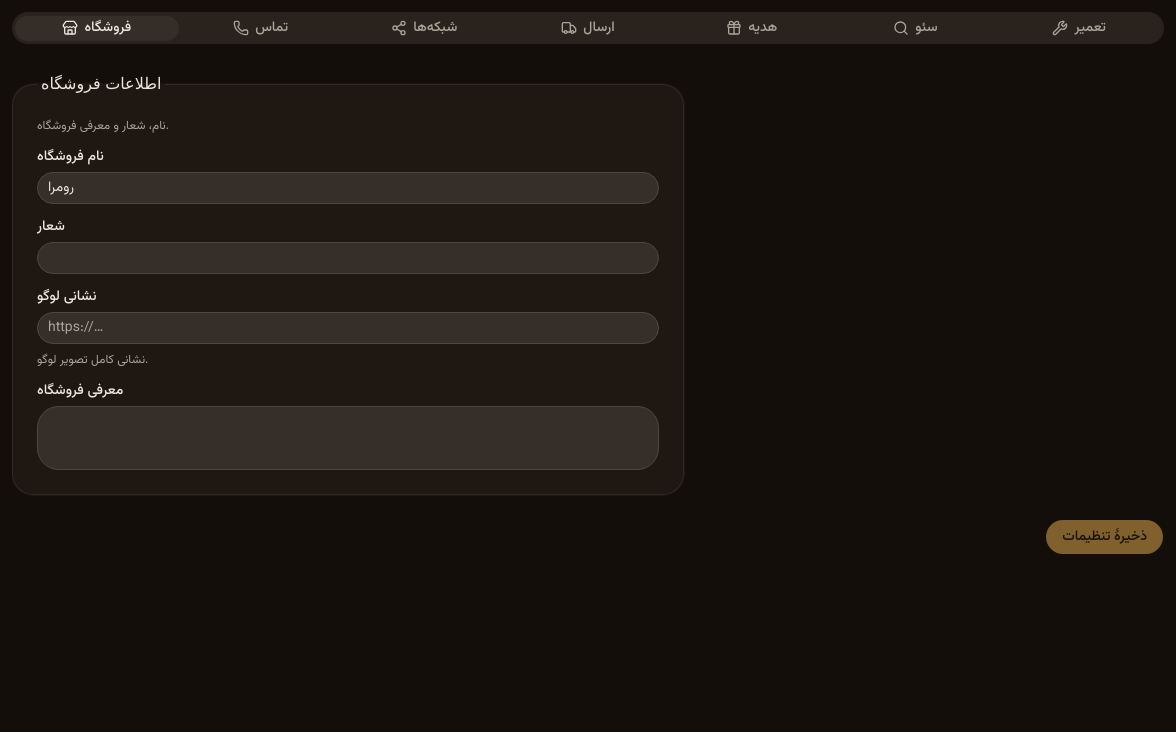
Scenario: SettingsForm › focuses the SEO tab when the server rejects a field on that panel
The width and height of the screenshot is (1176, 732).
Replace the text in the field labelled "نام فروشگاه" with "رومرا تازه": [348, 188] box [37,172,659,204]
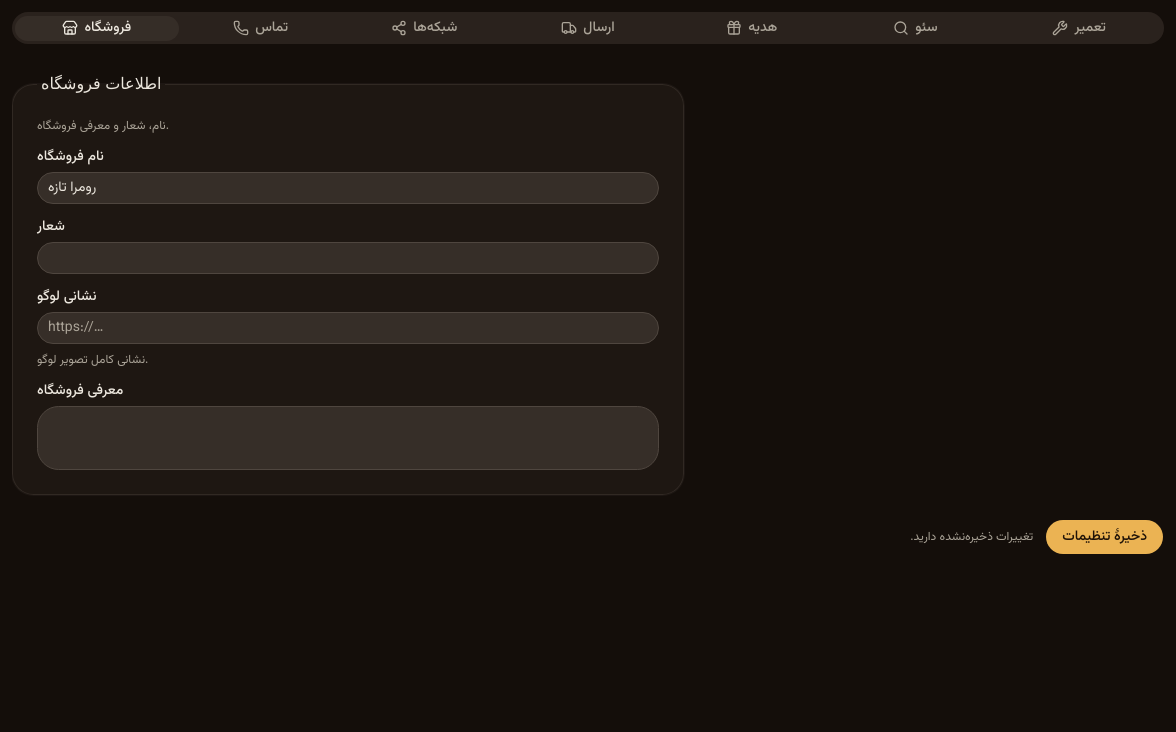
Click the button "ذخیرهٔ تنظیمات": [1105, 537] box [1045,519,1164,555]
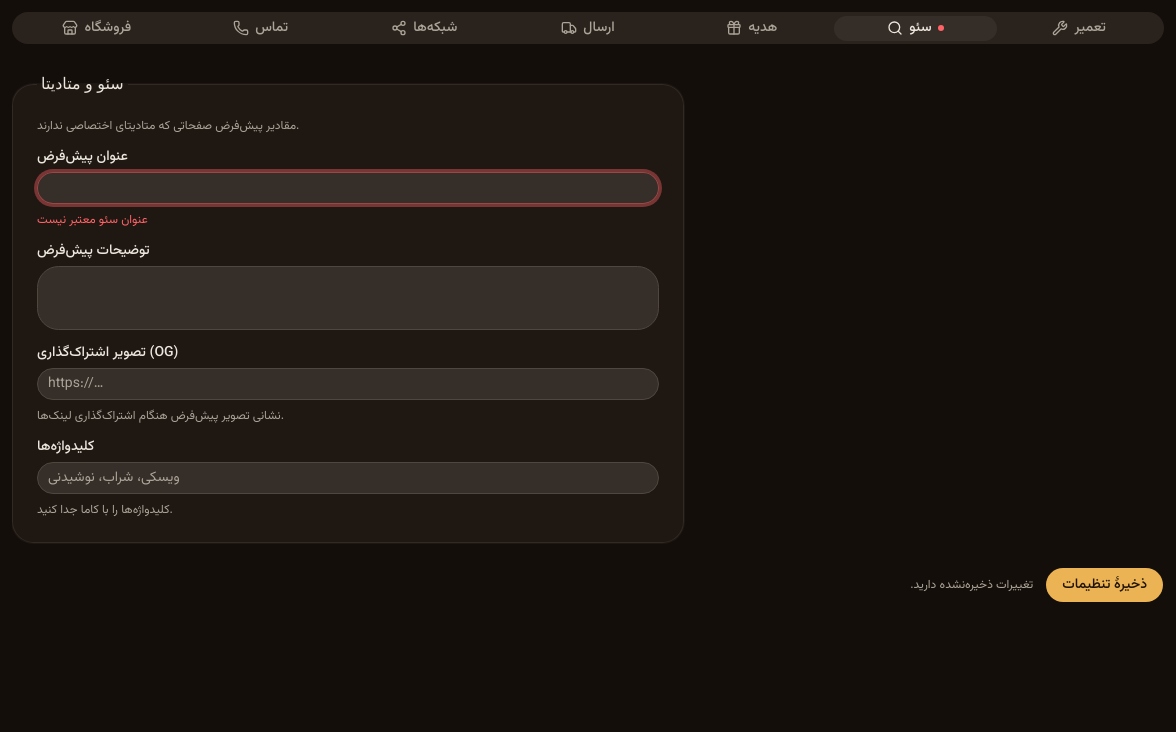
Expected: the text "عنوان سئو معتبر نیست" is shown, [37,211,148,229]
